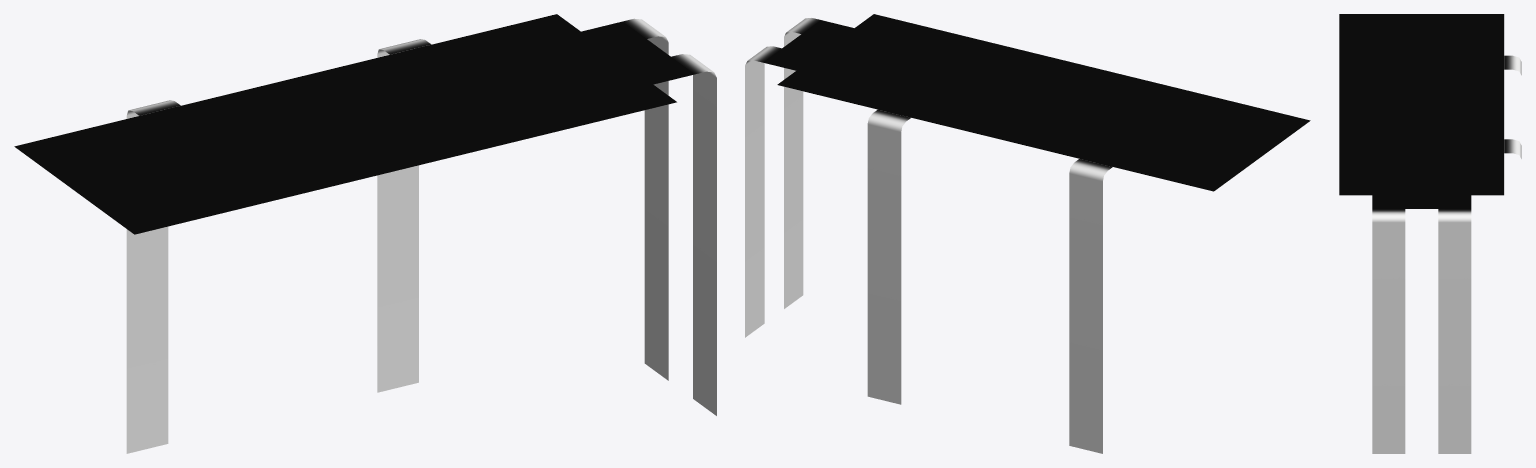
Rendered from mirageRoom1_MESH.fbx.
3 renders of one model, left to right at view 1: azimuth 30°, elevation 25°; view 2: azimuth 150°, elevation 25°; view 3: azimuth 270°, elevation 25°, orthographic. The views are drawn at different scales.
Visible parts, largest first — view 1: mirageRoom1; view 2: mirageRoom1; view 3: mirageRoom1.
Boxes of the visible parts, <box> form: mirageRoom1: <box>14,14,716,453</box>; mirageRoom1: <box>745,14,1310,453</box>; mirageRoom1: <box>1339,14,1521,453</box>.
Size of the model in its own units: 14.52 by 7.95 by 5.52.
1 material, 1 textured.
